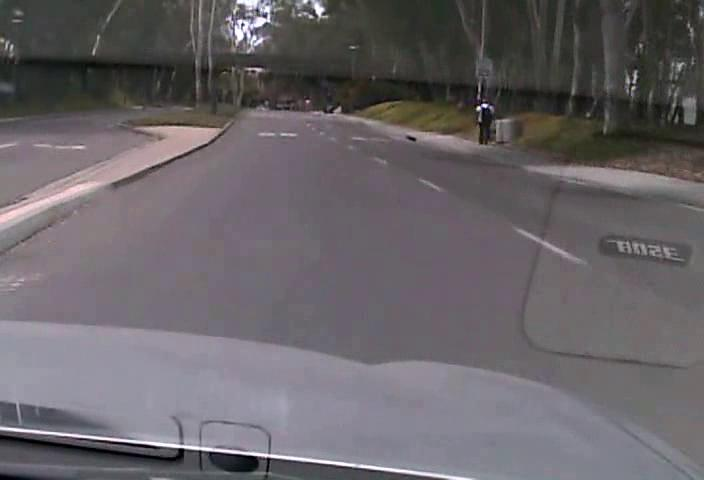speedLimitUrdbl: (475, 56, 493, 79)
